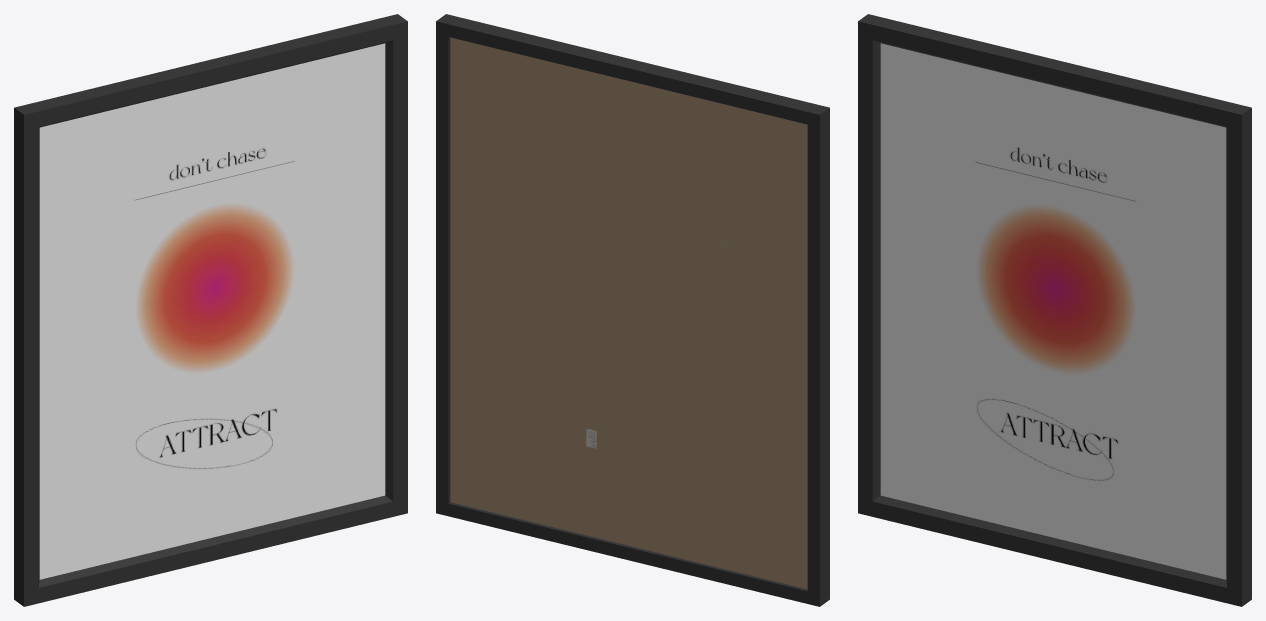
File: dont-chase-40x50.glb
3 views of the same model, side by side, from view 1: azimuth 30°, elevation 25°; view 2: azimuth 150°, elevation 25°; view 3: azimuth 330°, elevation 25° (orthographic).
Visible parts, largest first — view 1: LAWHA 40x50; view 2: LAWHA 40x50; view 3: LAWHA 40x50.
Boxes of the visible parts, left/top/right/bottom form: LAWHA 40x50: left=14, top=14, right=407, bottom=606; LAWHA 40x50: left=436, top=14, right=829, bottom=606; LAWHA 40x50: left=858, top=14, right=1251, bottom=606.
Bounding box in the file's own units: 0.444 × 0.544 × 0.02.
4 materials, 1 textured.
